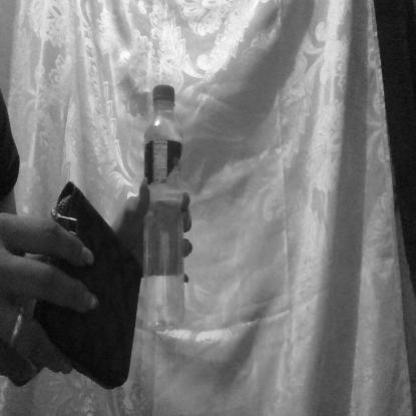Plastic Bottle: (133, 85, 200, 347)
